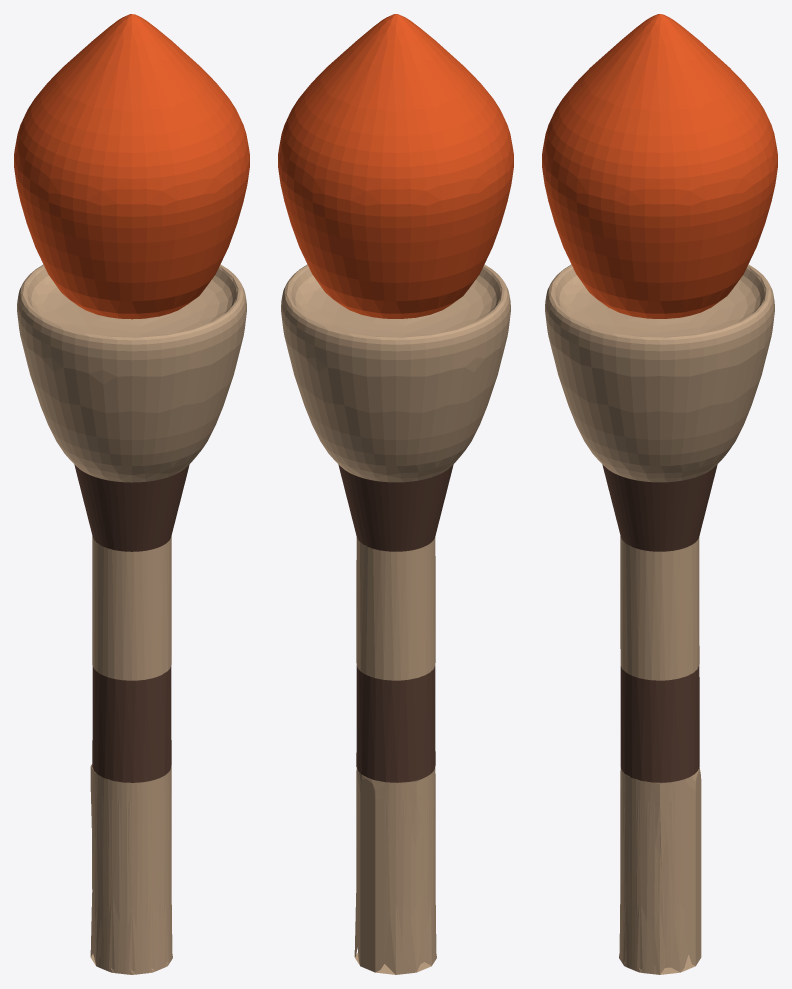
File: tocha2.fbx
3 views of the same model, side by side, from view 1: azimuth 30°, elevation 25°; view 2: azimuth 150°, elevation 25°; view 3: azimuth 270°, elevation 25° (orthographic).
Visible parts, largest first — view 1: fogo2; view 2: fogo2; view 3: fogo2.
Part boxes in pixels (<box>): fogo2: <box>14,14,249,974</box>; fogo2: <box>278,14,513,974</box>; fogo2: <box>542,14,777,974</box>.
Size of the model in its own units: 40.32 by 178 by 40.32.
